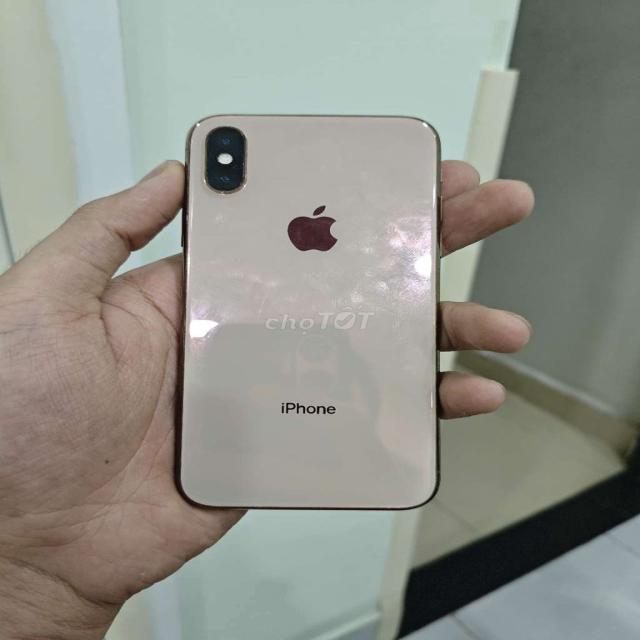gen_x_xs: (172, 99, 455, 546)
